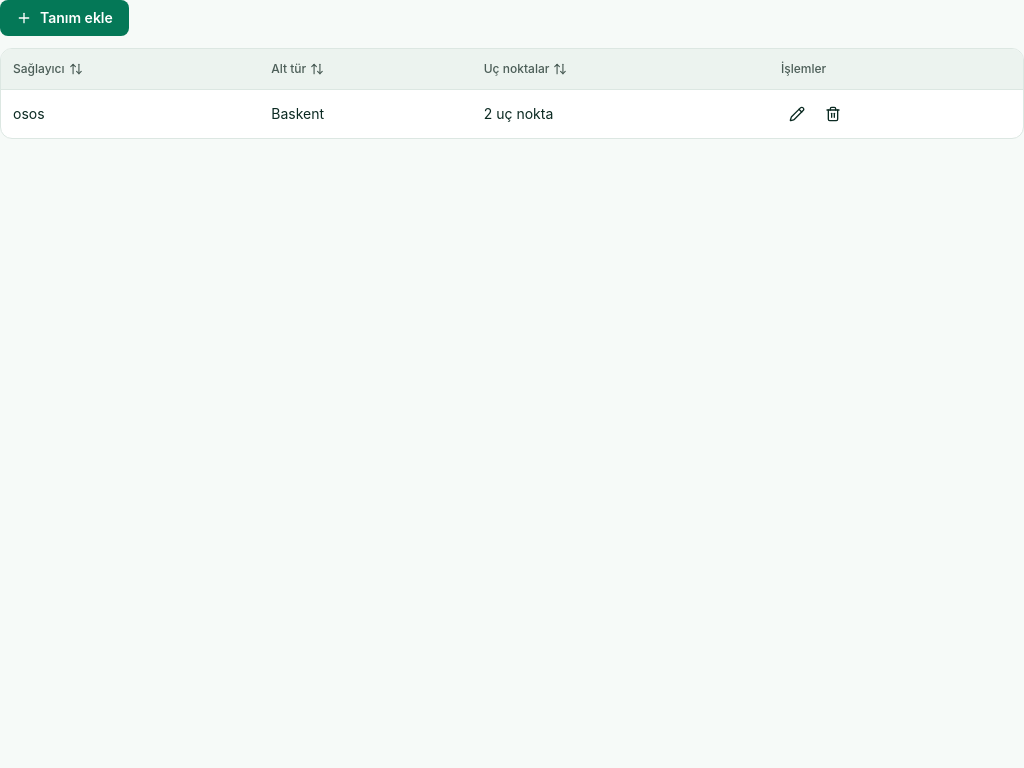
it: IntegrationsTabView › refuses an endpoint that is not https (R176)
This screenshot has width=1024, height=768.
Click the button named "Tanımı düzenle". click: {"x": 797, "y": 114}
box: [781, 98, 813, 130]
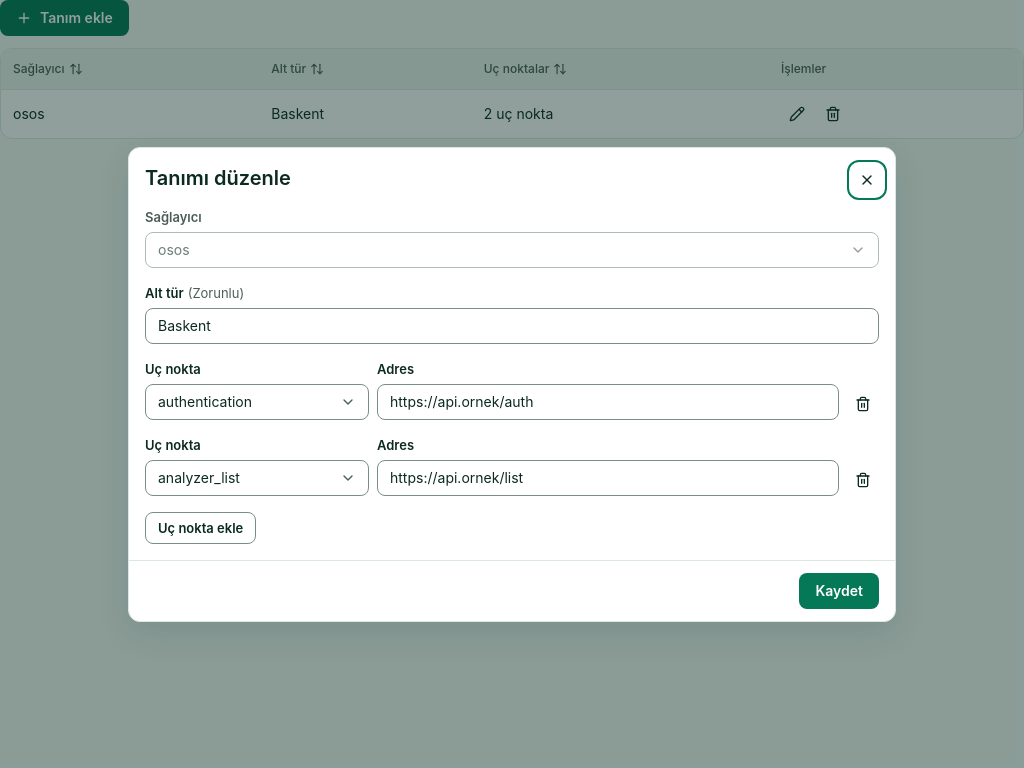
Replace the text in the 1st field labelled "Adres" with "http://api.ornek/auth". click: {"x": 608, "y": 402}
box: [377, 384, 839, 420]
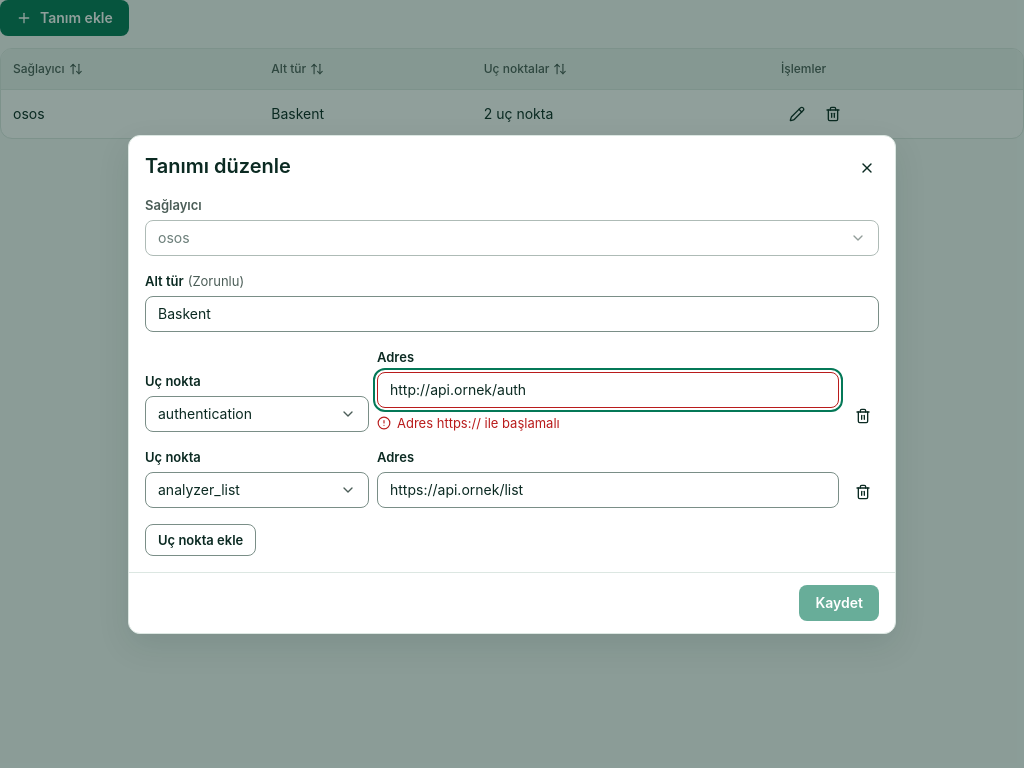
Result: the text "Adres https:// ile başlamalı" is shown at [397, 414, 560, 432]
Result: the button "Kaydet" is disabled at [799, 584, 879, 620]
